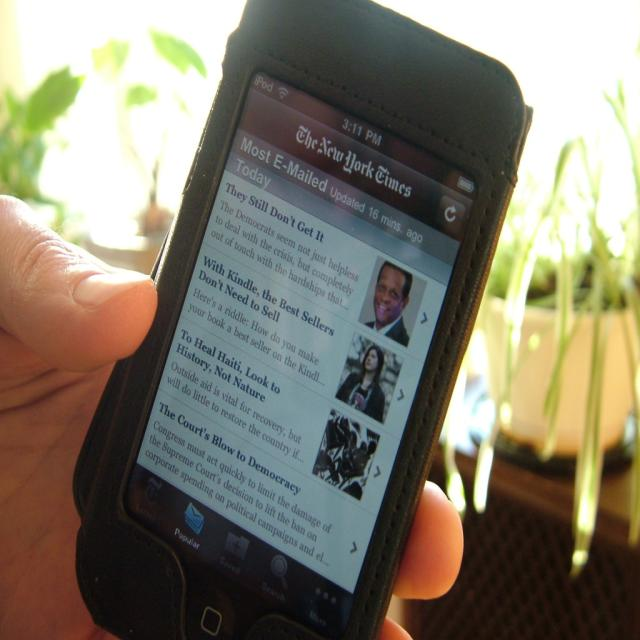Mobile-phone: (75, 2, 535, 640)
